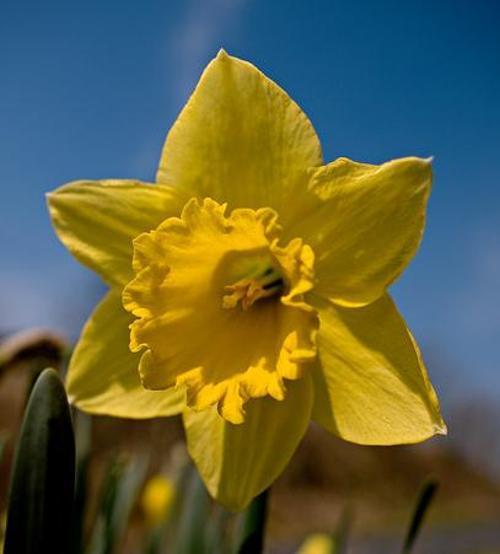flower1: (44, 45, 449, 521)
